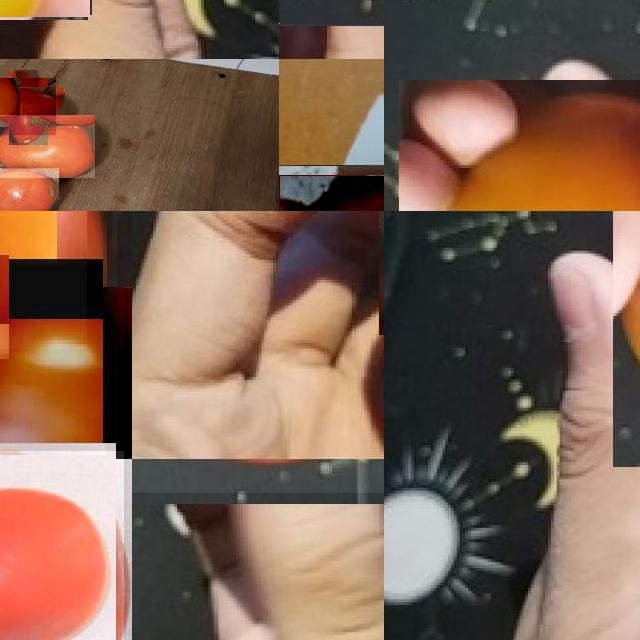0: (0, 272, 117, 473), (0, 451, 124, 640)
Fresh Tomato: (0, 115, 95, 178), (0, 78, 56, 135), (0, 168, 59, 211)
Rotten Tomato: (399, 80, 640, 211)
